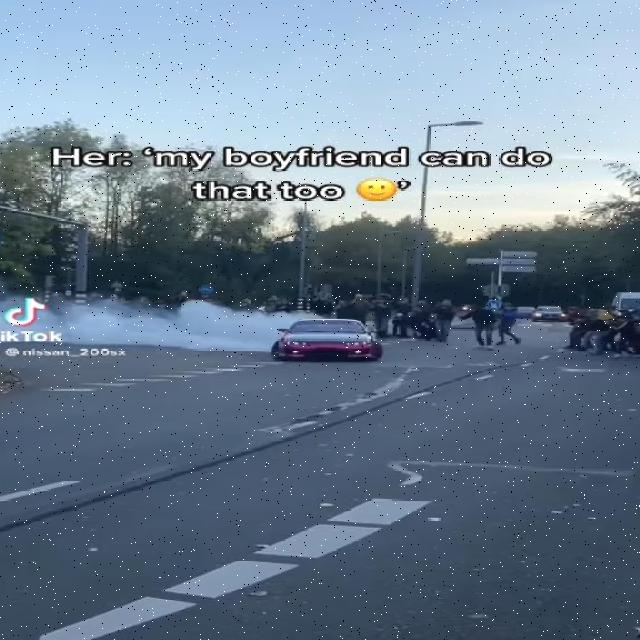car: (281, 316, 386, 366)
